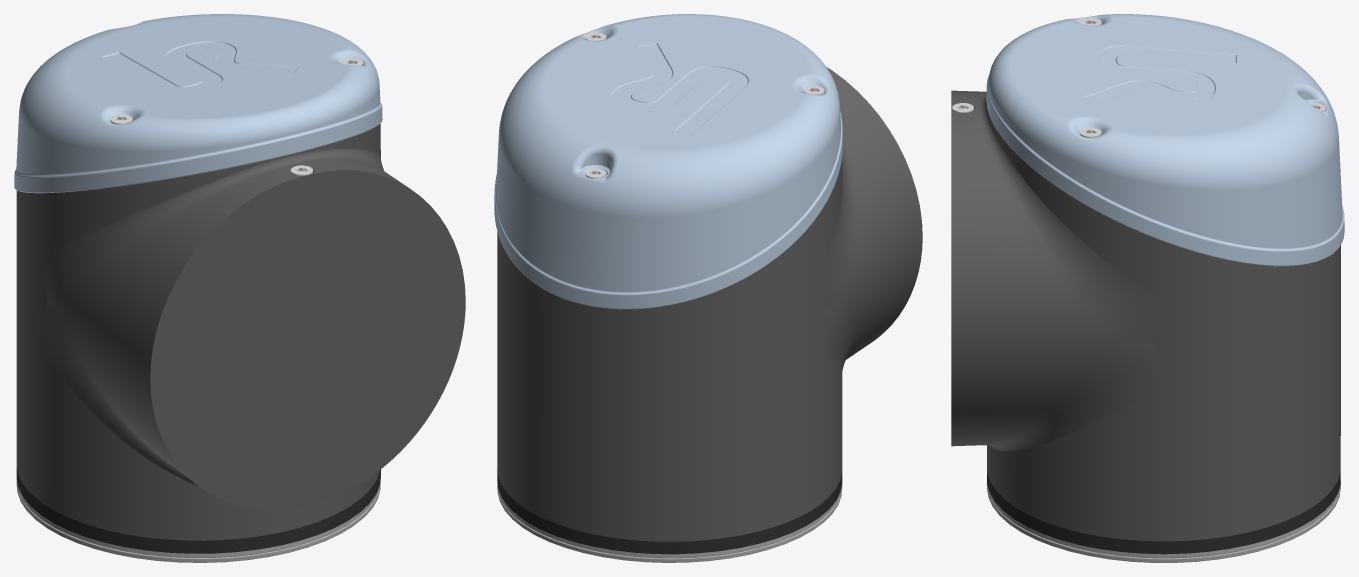
File: joint3.obj
3 views of the same model, side by side, from view 1: azimuth 30°, elevation 25°; view 2: azimuth 150°, elevation 25°; view 3: azimuth 270°, elevation 25° (orthographic). The views are drawn at different scales.
Parts seen in each view (by area): view 1: Solid6, Solid4; view 2: Solid6, Solid4; view 3: Solid6, Solid4.
Boxes of the visible parts, left/top/right/bottom form: Solid6: left=16, top=124, right=465, bottom=562; Solid4: left=14, top=14, right=382, bottom=193; Solid6: left=497, top=67, right=922, bottom=562; Solid4: left=494, top=14, right=842, bottom=309; Solid6: left=951, top=90, right=1340, bottom=562; Solid4: left=986, top=14, right=1344, bottom=266.
Size of the model in its own units: 0.091 by 0.1188 by 0.0999.
